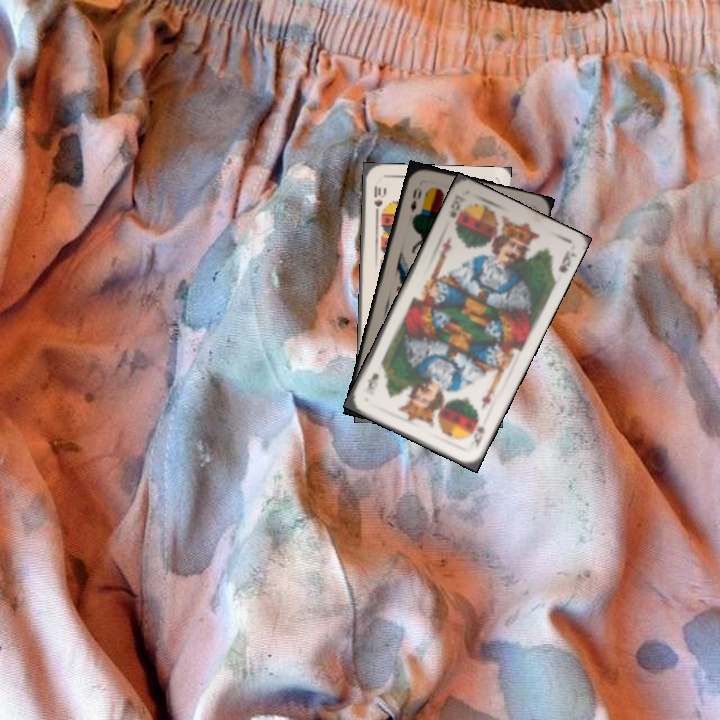EO: (406, 183, 424, 215)
S10: (370, 181, 385, 218)
SK: (466, 413, 487, 450), (446, 191, 468, 220)
